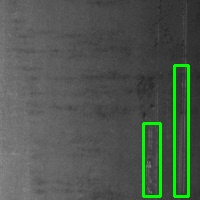scratches: (174, 65, 188, 196), (143, 123, 160, 196)
